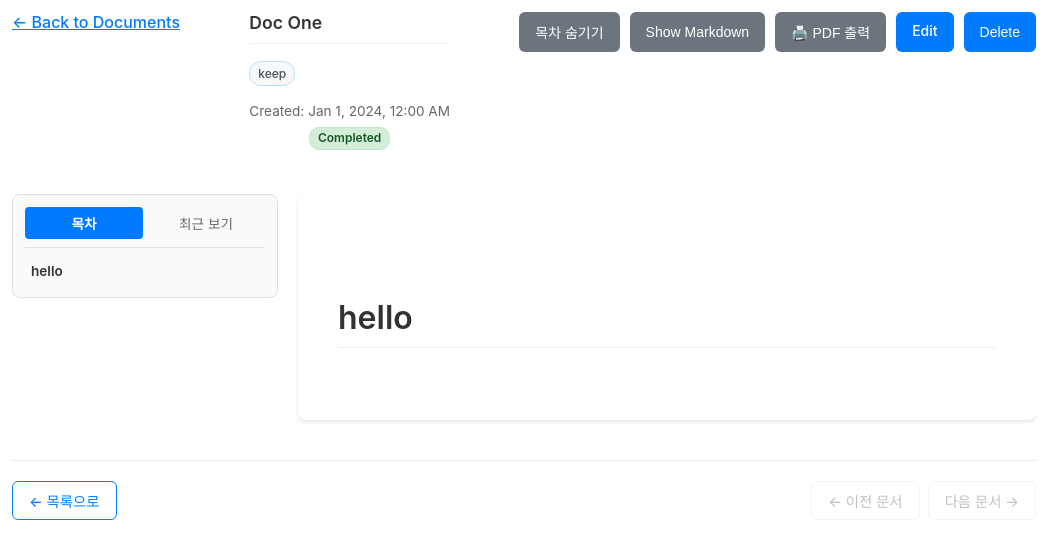
Test case: DocumentView › table of contents sidebar › does not render the TOC panel while viewing raw markdown source
The width and height of the screenshot is (1048, 537).
Expected: the heading "Doc One" is shown, [249,12,322,33]
What coordinates should you click on to do the following:
click the button "Show Markdown"
I would click on:
 (697, 32)
Its box is [630,12,765,52].
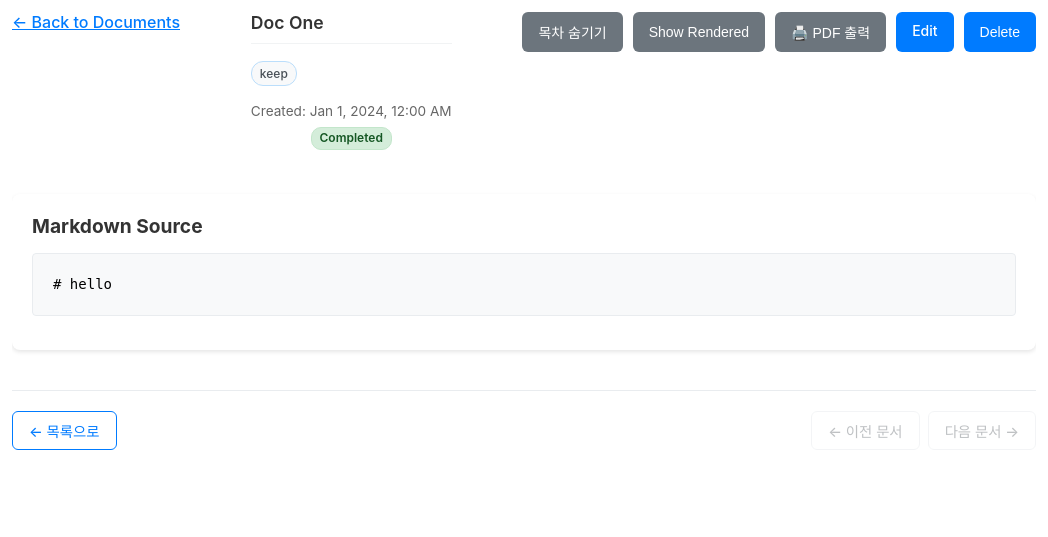
Now the navigation bar with class "document-toc" is gone
